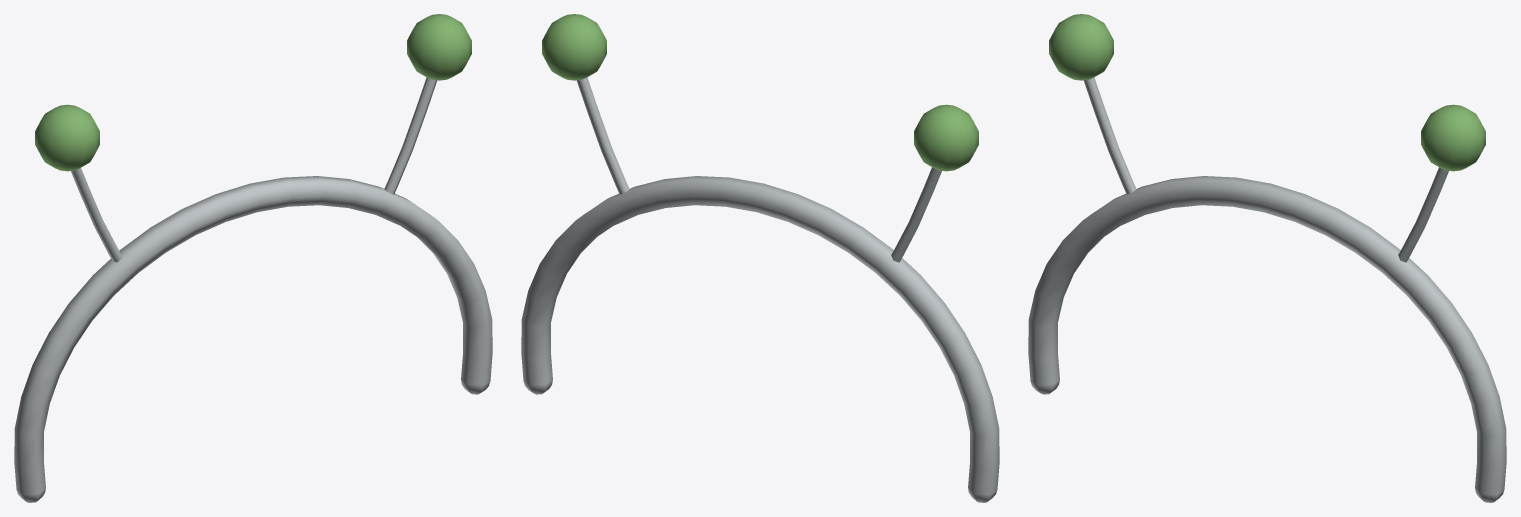
The model's file is bulb_bopper.glb.
3 renders of one model, left to right at view 1: azimuth 30°, elevation 25°; view 2: azimuth 150°, elevation 25°; view 3: azimuth 330°, elevation 25°, orthographic.
Visible parts, largest first — view 1: bulb_bopper_Head; view 2: bulb_bopper_Head; view 3: bulb_bopper_Head.
Part boxes in pixels (bbox=[...]): bulb_bopper_Head: bbox=[14, 14, 492, 502]; bulb_bopper_Head: bbox=[521, 14, 999, 502]; bulb_bopper_Head: bbox=[1028, 14, 1506, 502].
Size of the model in its own units: 0.7342 by 0.5739 by 0.0877.
